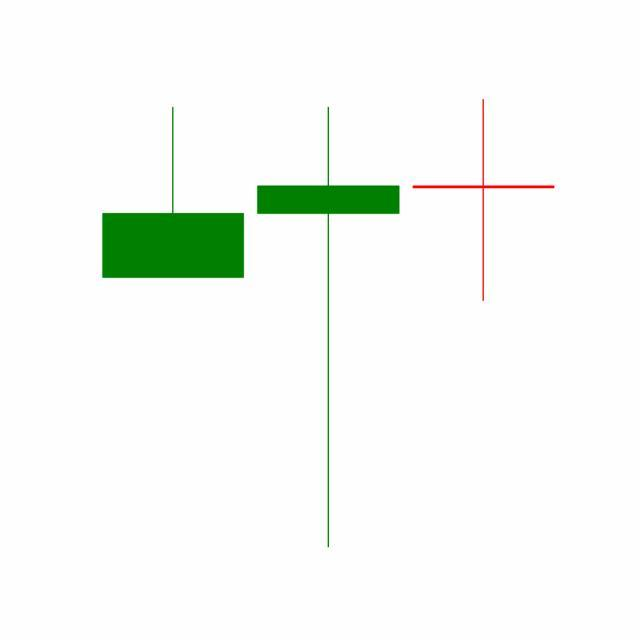Spinning Top: (406, 97, 562, 304)
